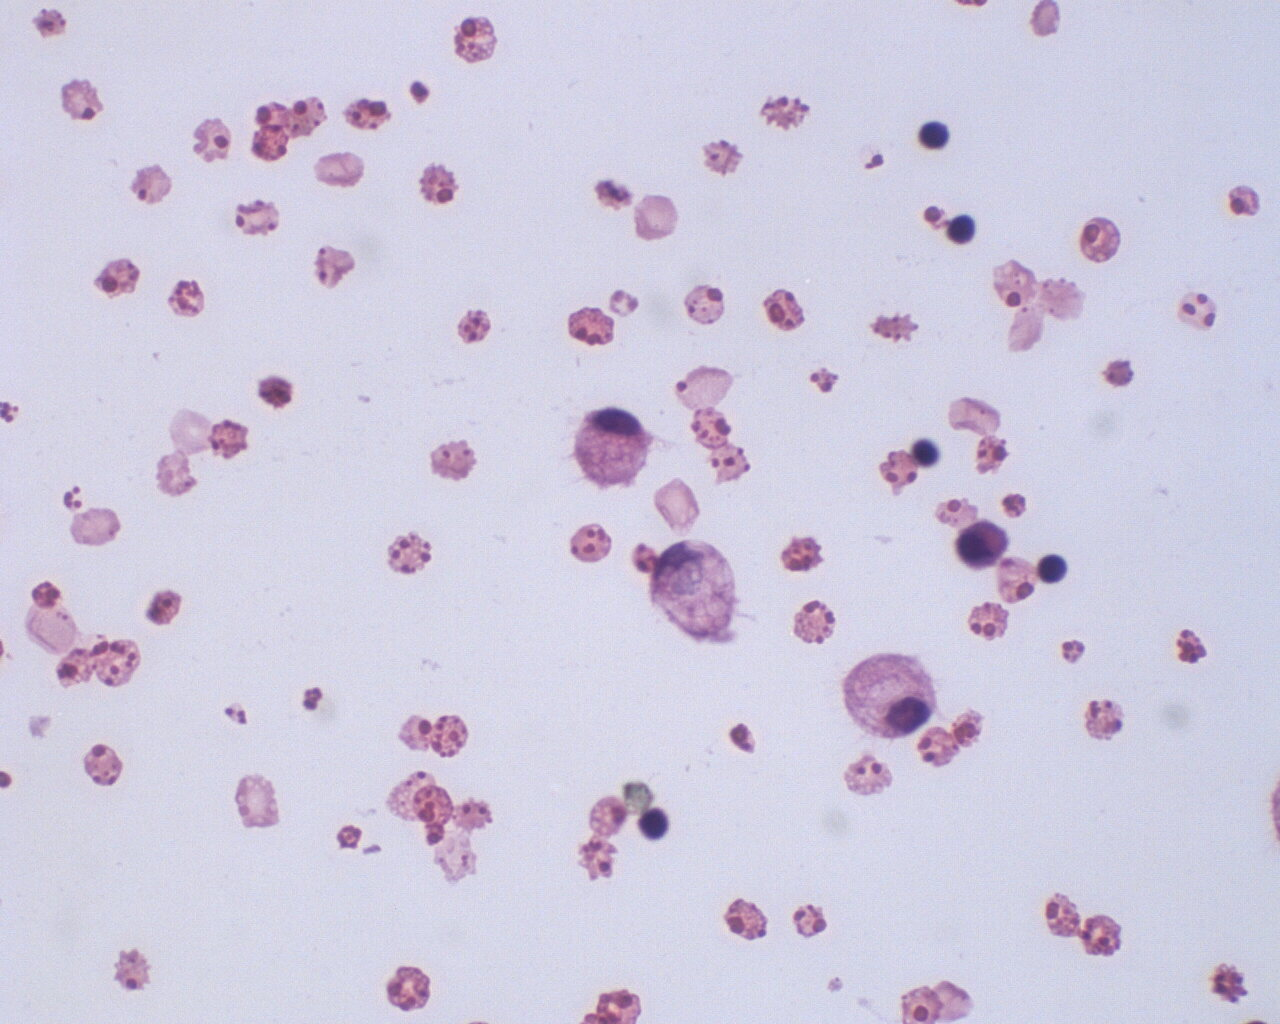histo: (839, 646, 938, 741), (569, 401, 653, 490)
lymph: (1035, 546, 1071, 586), (945, 209, 981, 246), (917, 118, 955, 153)
